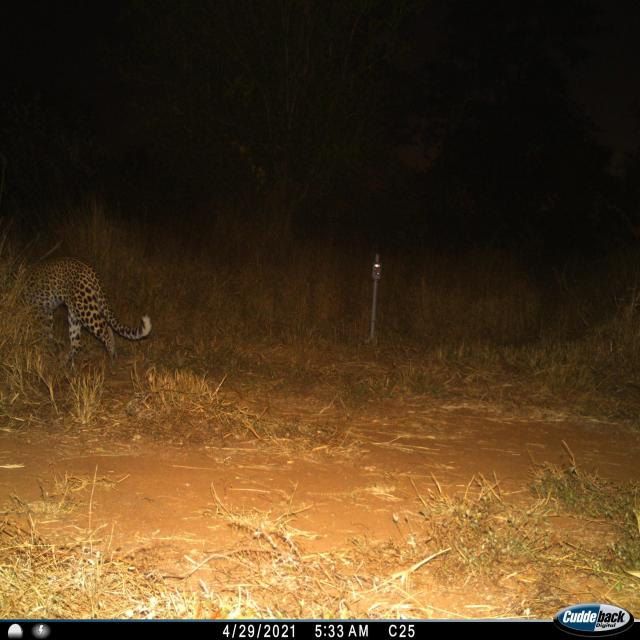Leopard: (2, 247, 155, 388)
